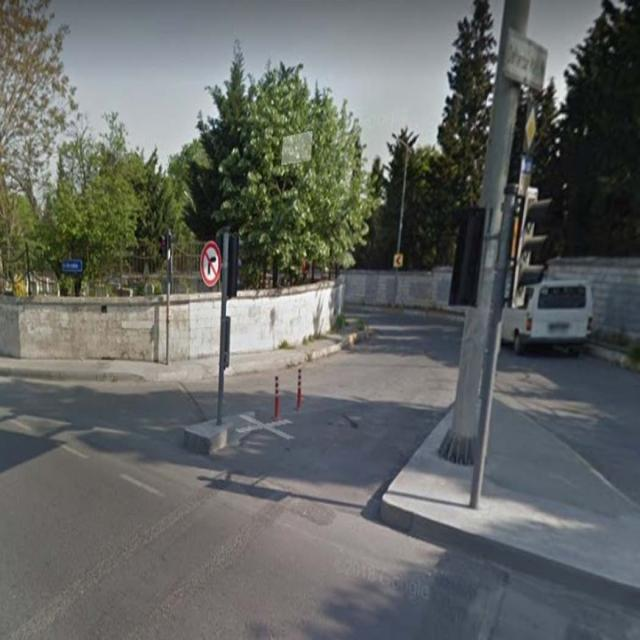sagadonulmez: (200, 241, 221, 285)
